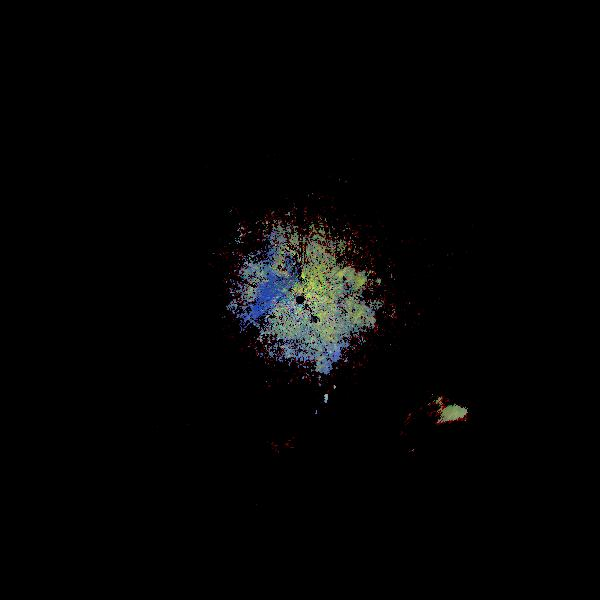roost: (215, 309, 383, 477), (385, 385, 502, 502)
